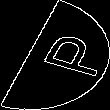P_W: (12, 28, 98, 82)
